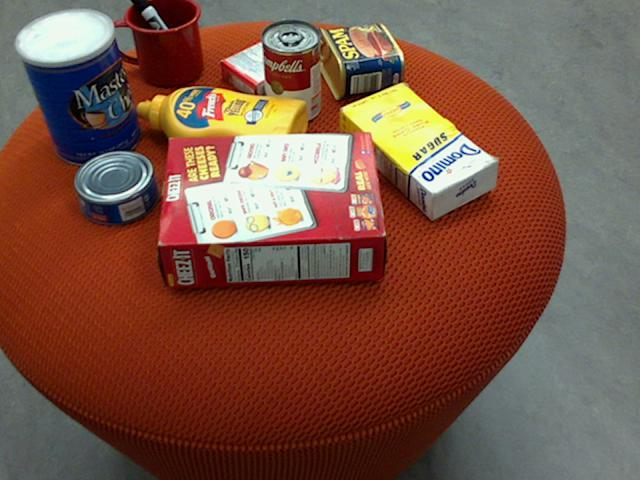cracker_box: (158, 131, 385, 287)
gelatin_box: (220, 34, 311, 101)
large_marker: (131, 0, 196, 75)
master_chef_can: (14, 8, 141, 165)
mug: (110, 0, 203, 86)
mustard_bottle: (137, 86, 308, 168)
potted_meat_can: (315, 23, 404, 100)
sugar_box: (338, 83, 499, 218)
tomato_soup_can: (261, 18, 321, 123)
tuna_fish_can: (73, 150, 159, 225)
